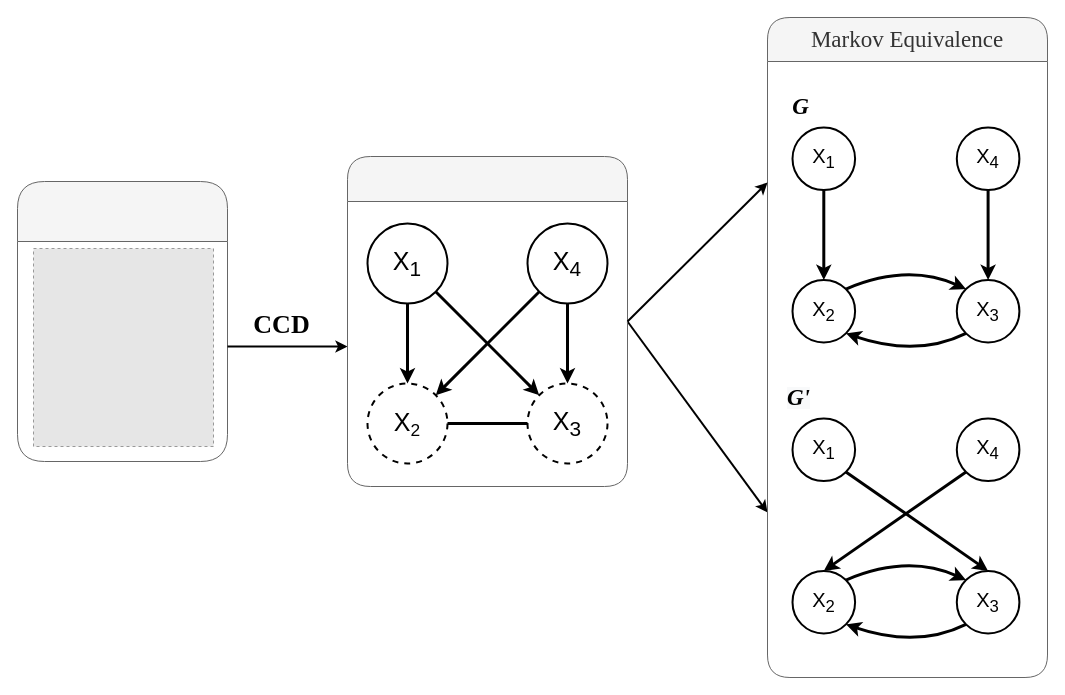
Some shapes in this 1065 by 695 pixel diagram are drawn without their labels. Grey dashed boxes stand in for pictures. The box of each missing label's shape, as (x1, y1, x2, y2) in pixels:
PAG: (346, 156, 628, 486)
Statistical independencies: (16, 180, 228, 462)
